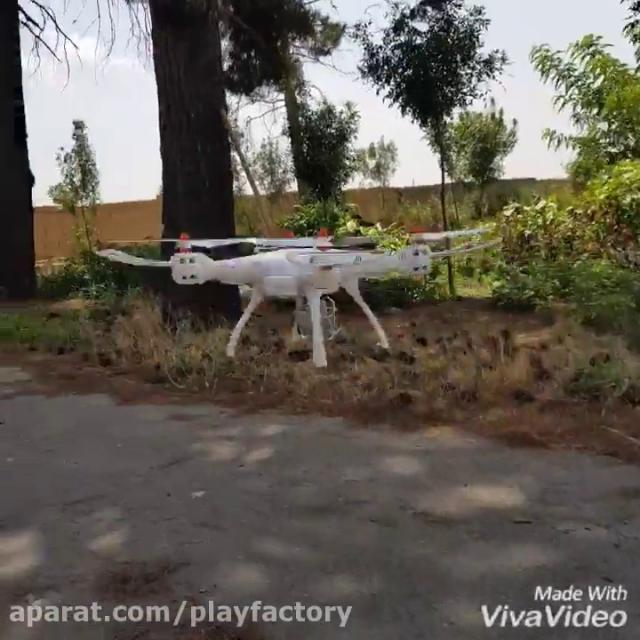drone: (94, 215, 502, 367)
